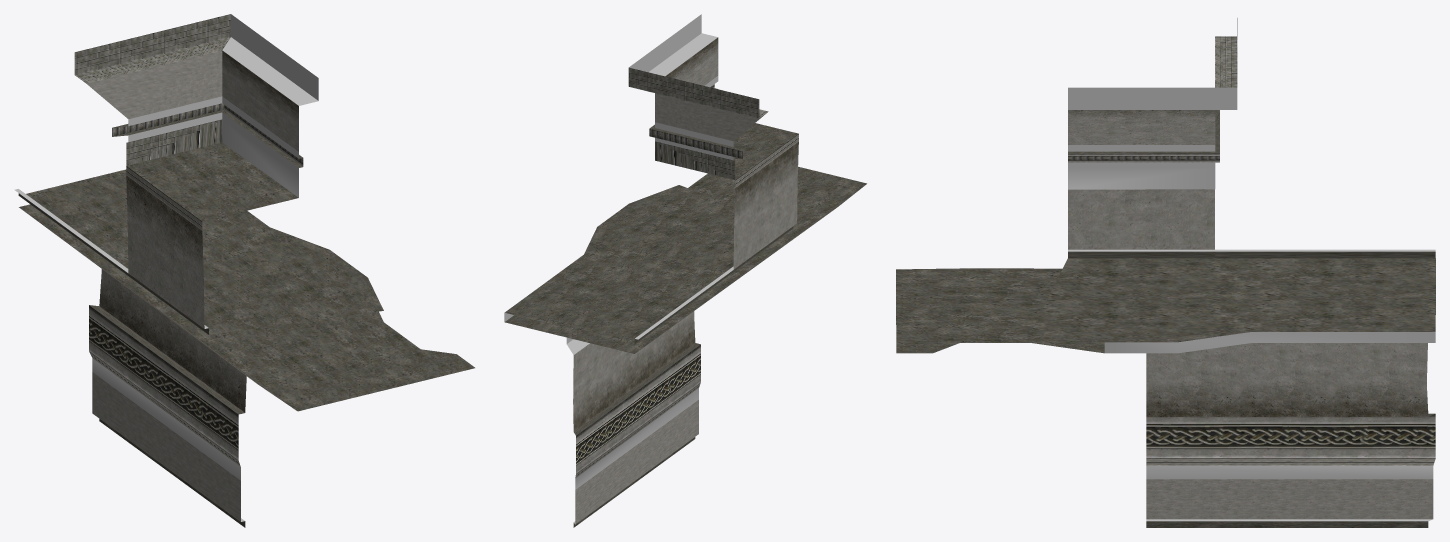
File: DWARF_PALACE_GEAR_ROOM_WALL04A.obj
3 renders of one model, left to right at view 1: azimuth 30°, elevation 25°; view 2: azimuth 150°, elevation 25°; view 3: azimuth 270°, elevation 25°, orthographic. The views are drawn at different scales.
Visible parts, largest first — view 1: ar_room_wall04A; view 2: ar_room_wall04A; view 3: ar_room_wall04A.
Boxes of the visible parts, bbox=[...] form: ar_room_wall04A: bbox=[14, 14, 474, 527]; ar_room_wall04A: bbox=[504, 14, 866, 527]; ar_room_wall04A: bbox=[896, 18, 1435, 527].
Size of the model in its own units: 1022 by 2050 by 2200.
